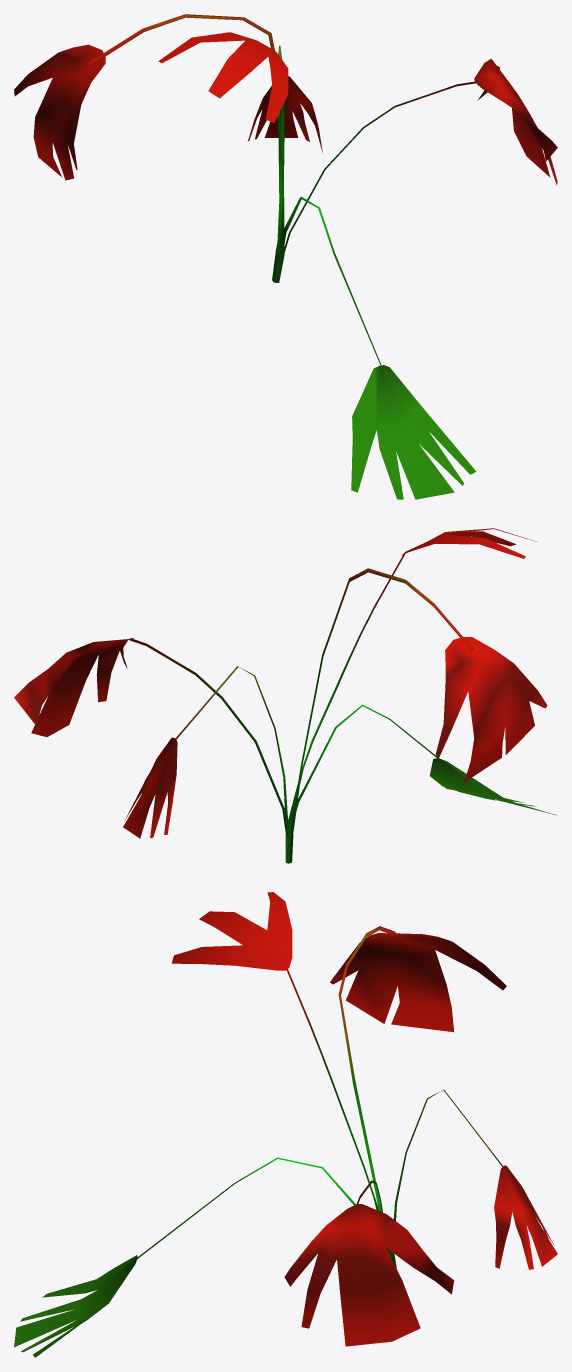
File: Var4_LOD1.fbx
3 views of the same model, one above another, from view 1: azimuth 30°, elevation 25°; view 2: azimuth 150°, elevation 25°; view 3: azimuth 270°, elevation 25° (orthographic). The views are drawn at different scales.
Parts seen in each view (by area): view 1: _878b_Var4_LOD1; view 2: _878b_Var4_LOD1; view 3: _878b_Var4_LOD1.
Boxes of the visible parts, x1,y1,x2,y2 form: _878b_Var4_LOD1: [14, 14, 557, 499]; _878b_Var4_LOD1: [14, 528, 556, 863]; _878b_Var4_LOD1: [14, 892, 557, 1357].
Bounding box in the file's own units: 190 × 146 × 187.
